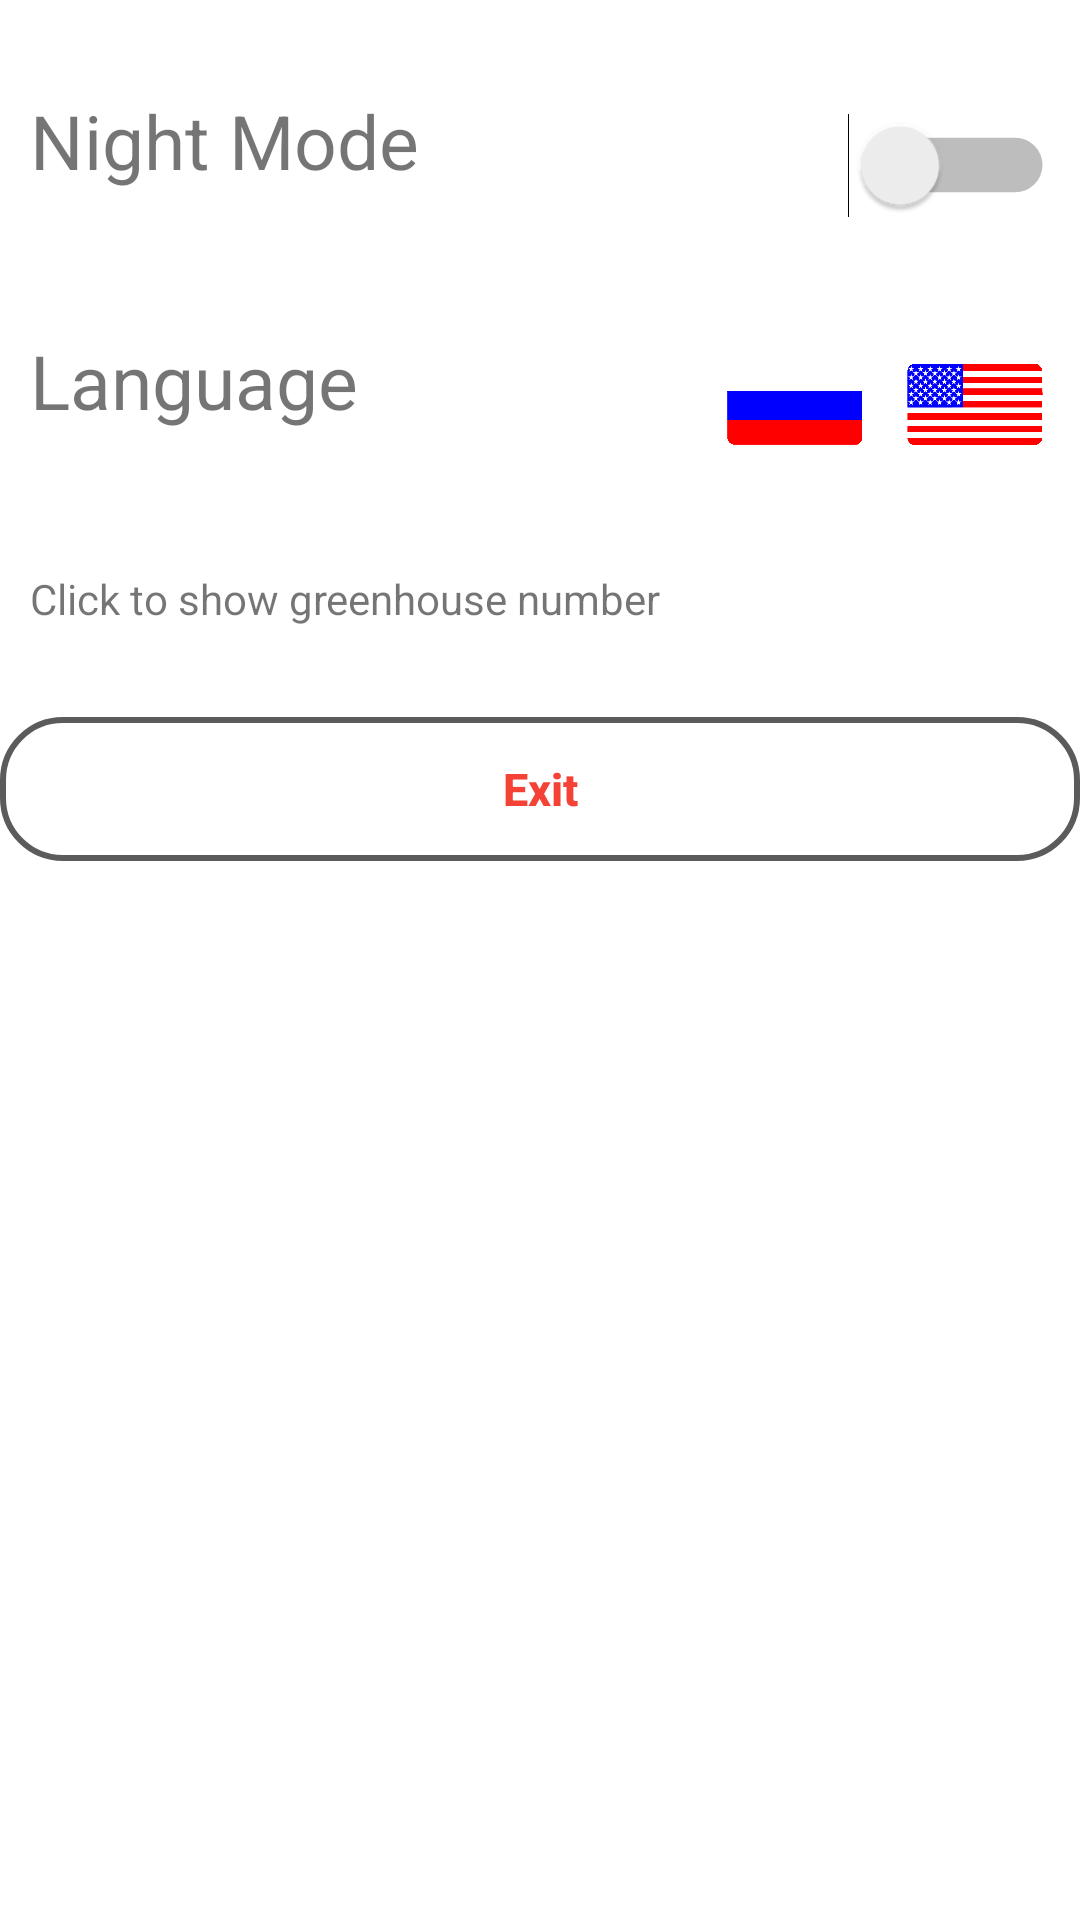

Screen size 1080px×1920px. Icon name, then its box in pixels as [left=x1, top=y1, right=x2, bottom=y2]:
russia flag: [left=727, top=391, right=862, bottom=445]
usa flag: [left=907, top=364, right=1043, bottom=445]
